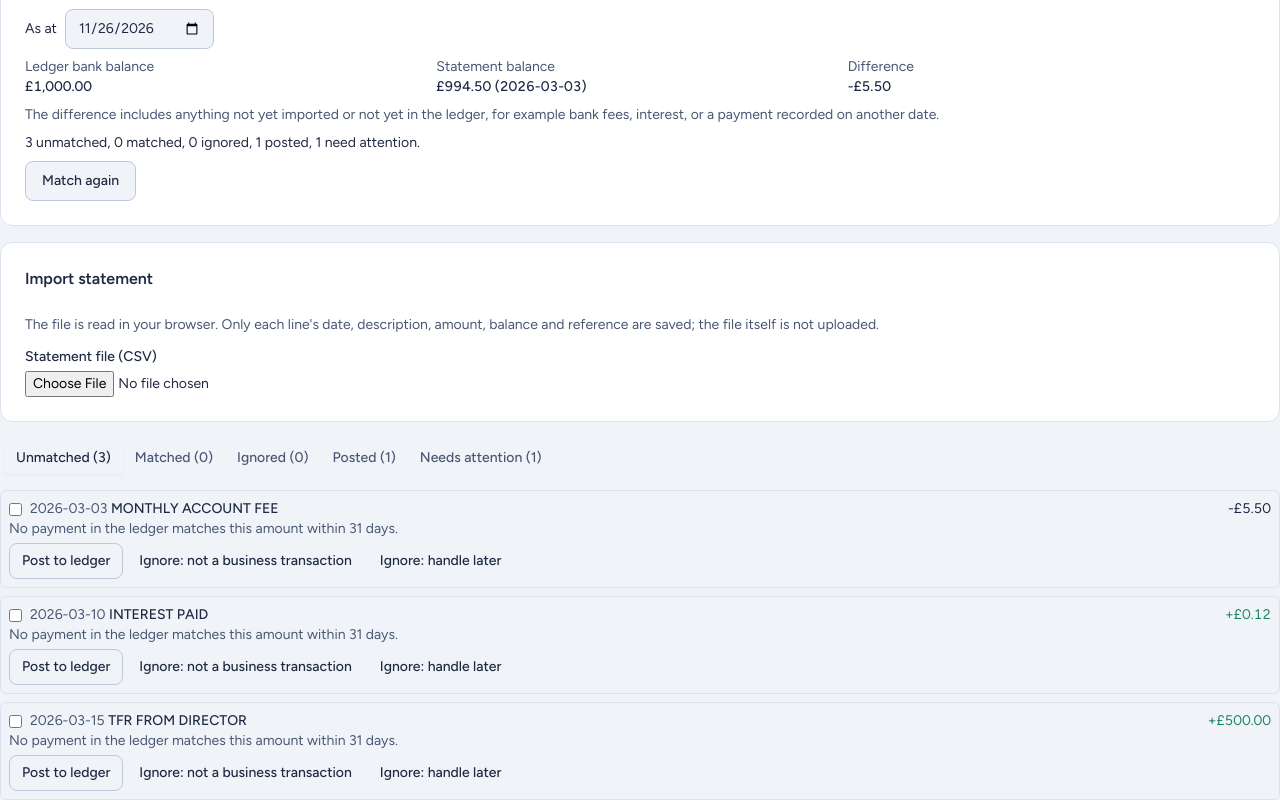
Test case: Bank: post a line to the ledger › one call even when Post is pressed twice; a refusal shows the plain message
(page scrolled)
Expected: the text "INTEREST PAID" is shown, [109,606,208,623]
Click the button "Post to ledger" below "2026-03-10". click: (66,667)
box: [9,649,123,685]
(page scrolled)
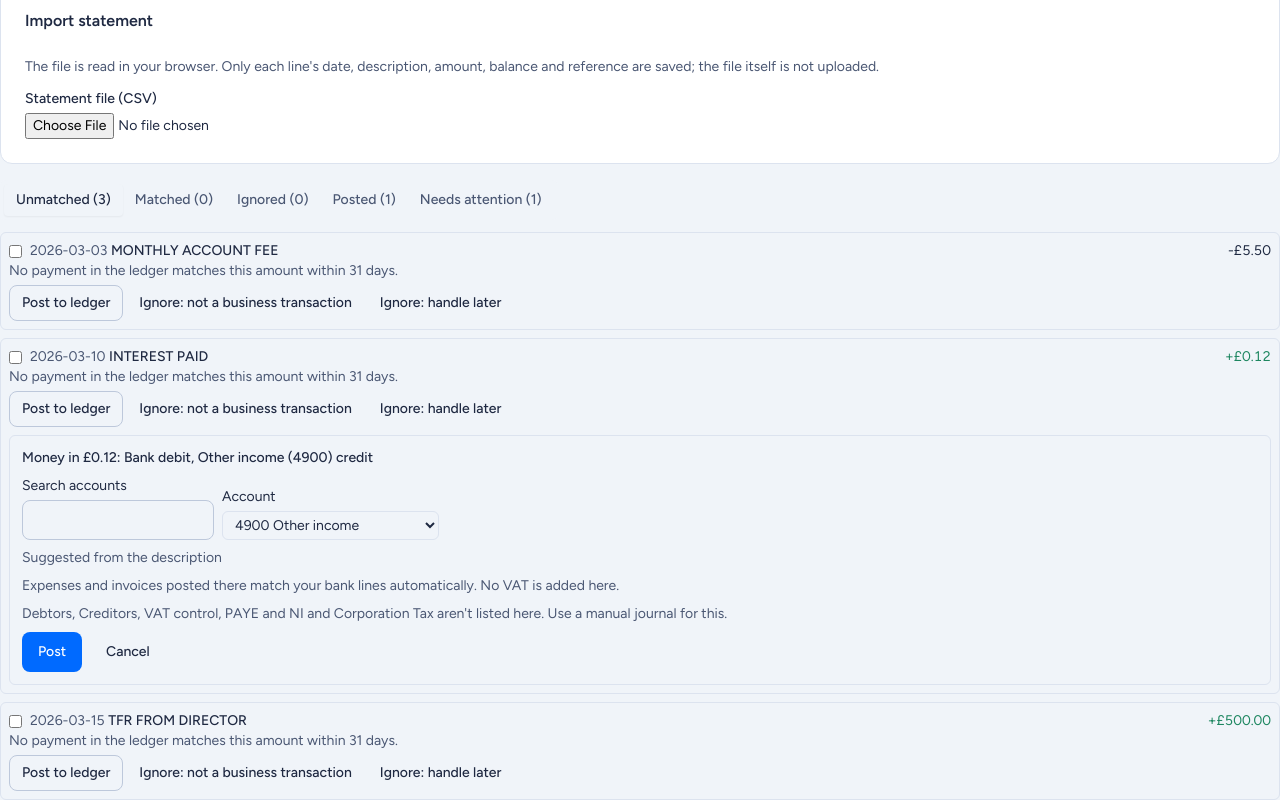
Click the button "Post". click: (52,652)
box: [22,632,82,672]
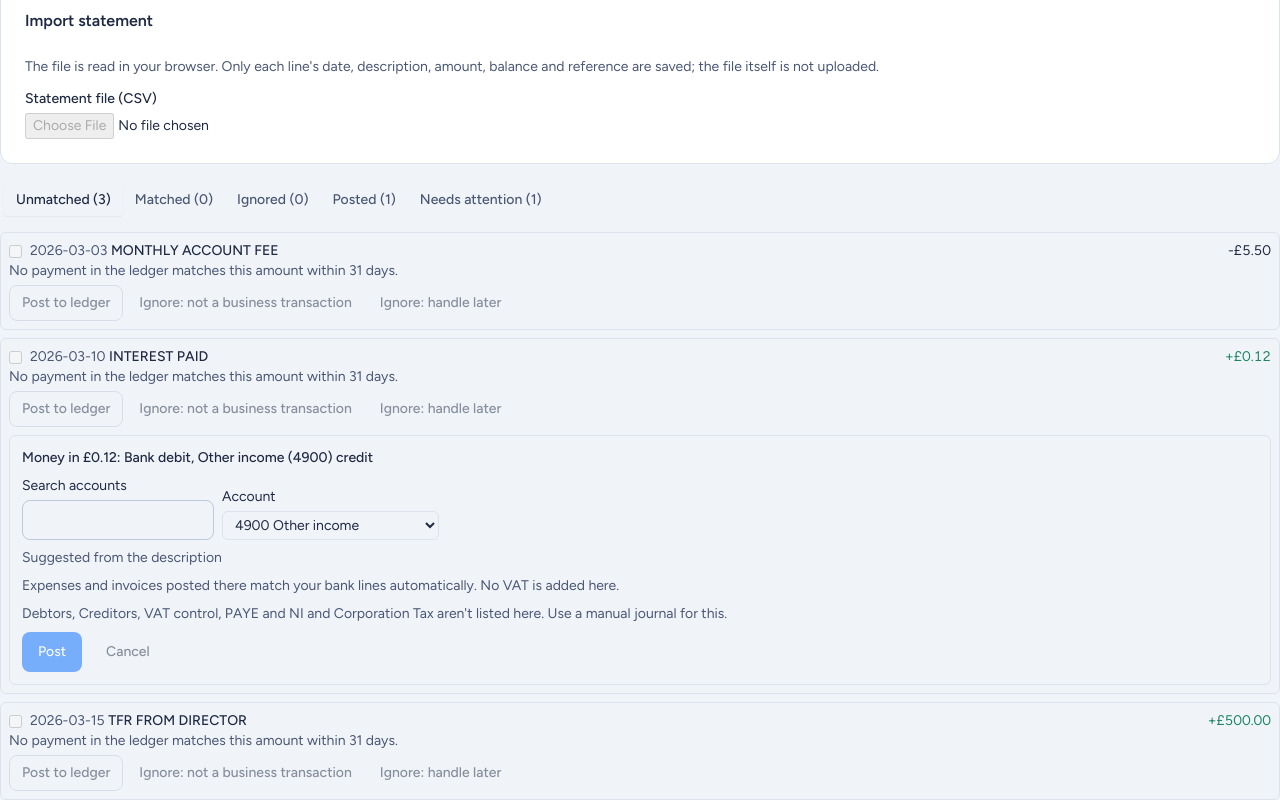
Click the button "Post". click: (52,652)
box: [22,632,82,672]
(page scrolled)
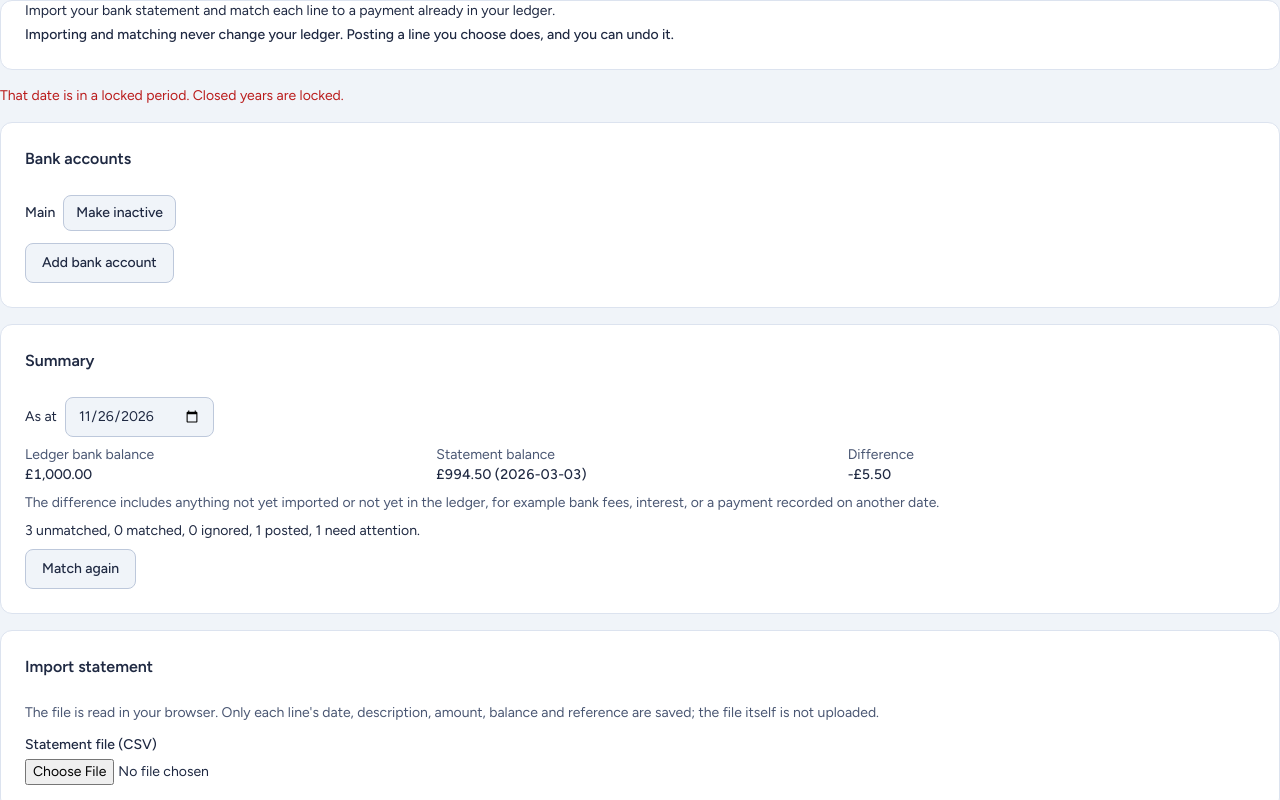
Now the message with test id "bank-error" shows "That date is in a locked period.", box [0,87,344,104]
